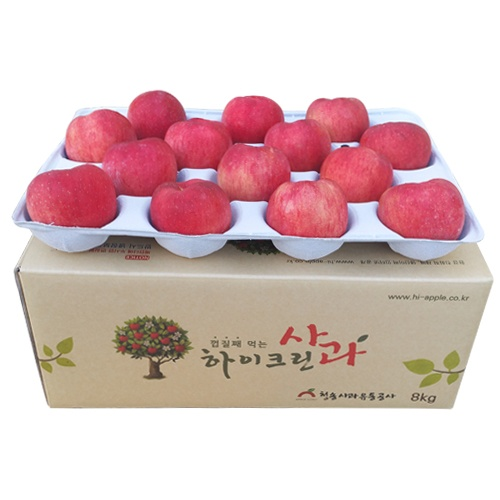apple: (25, 165, 117, 238), (378, 175, 463, 251), (154, 181, 238, 245), (270, 179, 347, 246), (102, 136, 181, 201), (59, 109, 139, 166), (219, 141, 293, 202), (322, 145, 395, 203), (265, 121, 338, 175), (362, 121, 434, 173), (165, 118, 234, 172), (128, 89, 191, 146), (305, 95, 375, 146), (221, 94, 289, 146)
